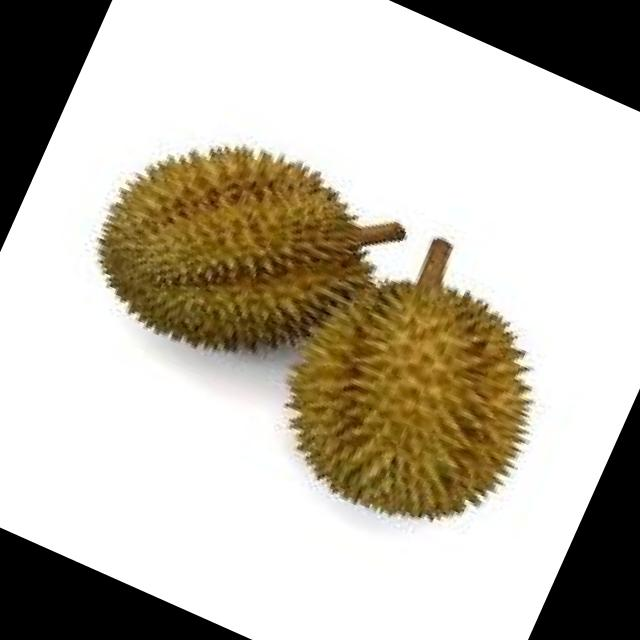fruit: (210, 201, 608, 594), (31, 61, 432, 440)
